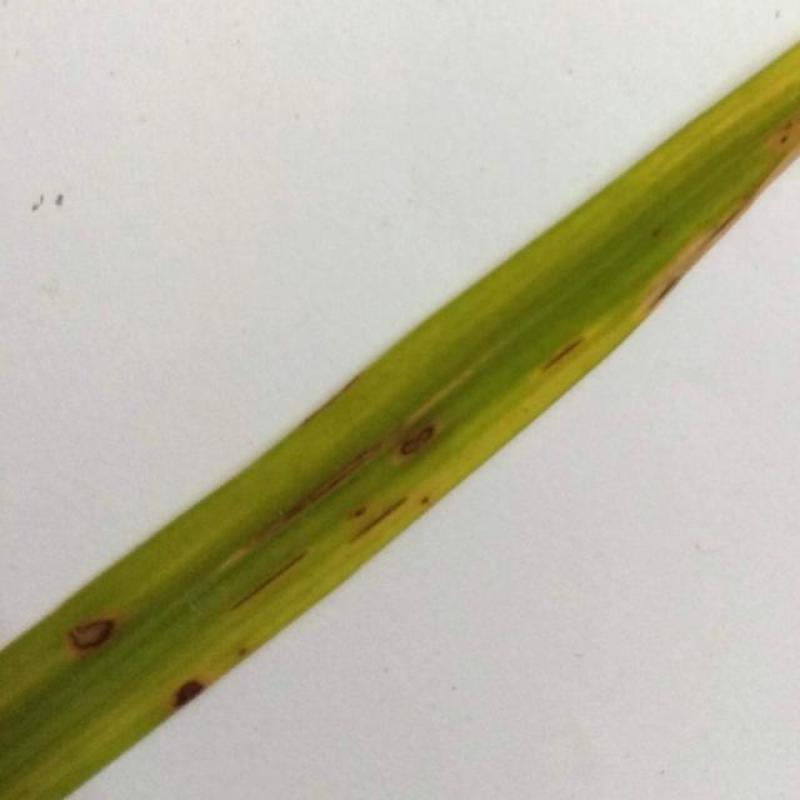Leaf_Blast: (368, 389, 458, 480), (50, 599, 141, 680), (151, 665, 240, 727)
